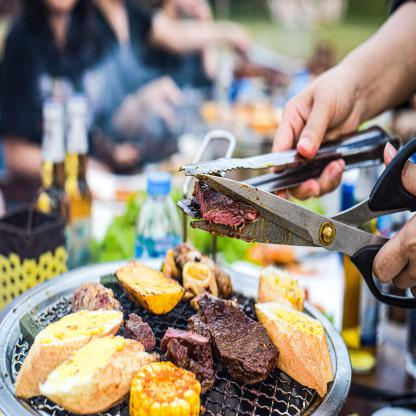Carne: (199, 294, 281, 384), (159, 326, 216, 397), (124, 308, 157, 349)
